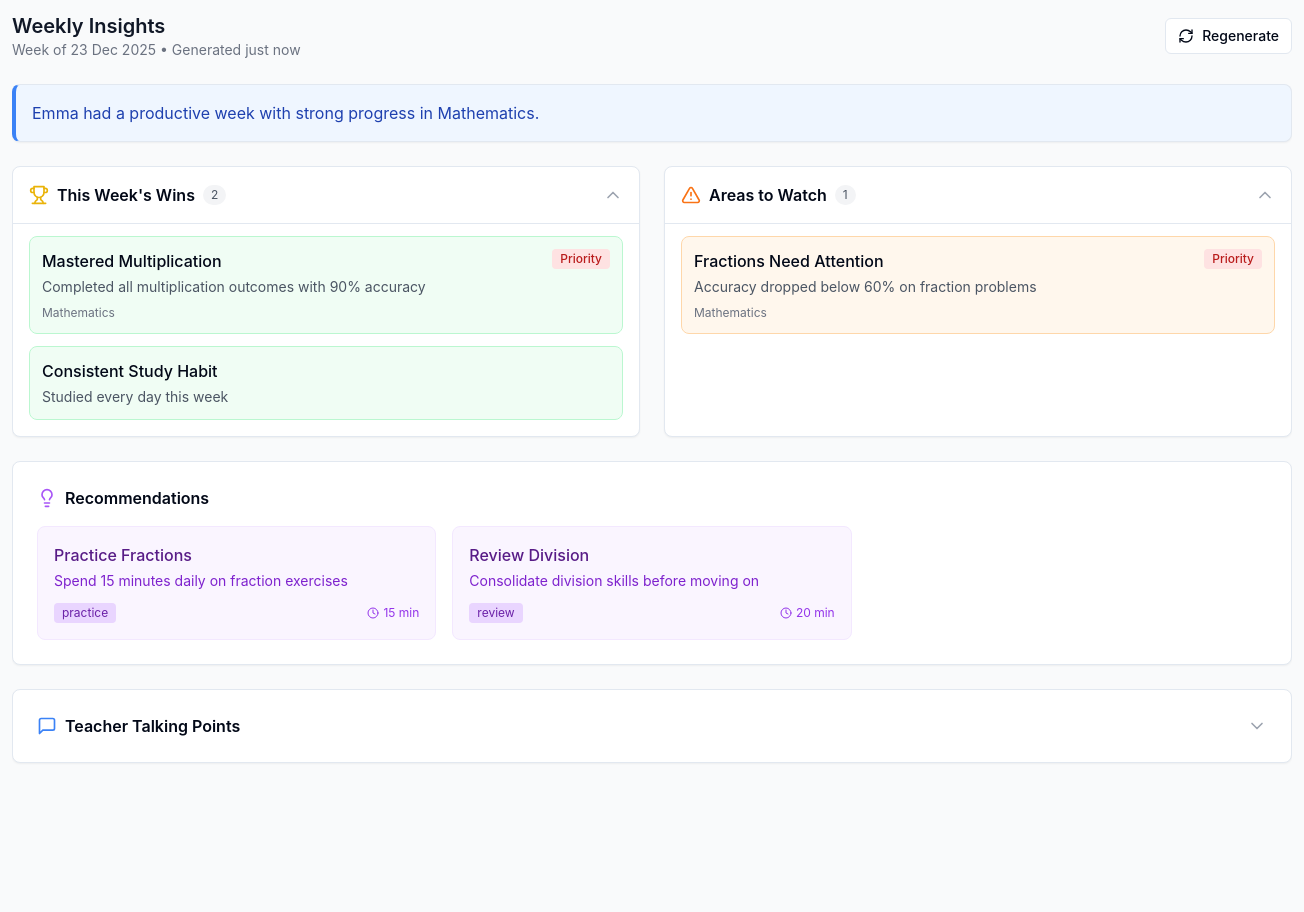
Test: InsightsTab › wins section › toggles expansion when clicked
This screenshot has width=1304, height=912.
Click the button with aria-label "Collapse This Week's Wins" at (126, 195), box [13,167,639,223]
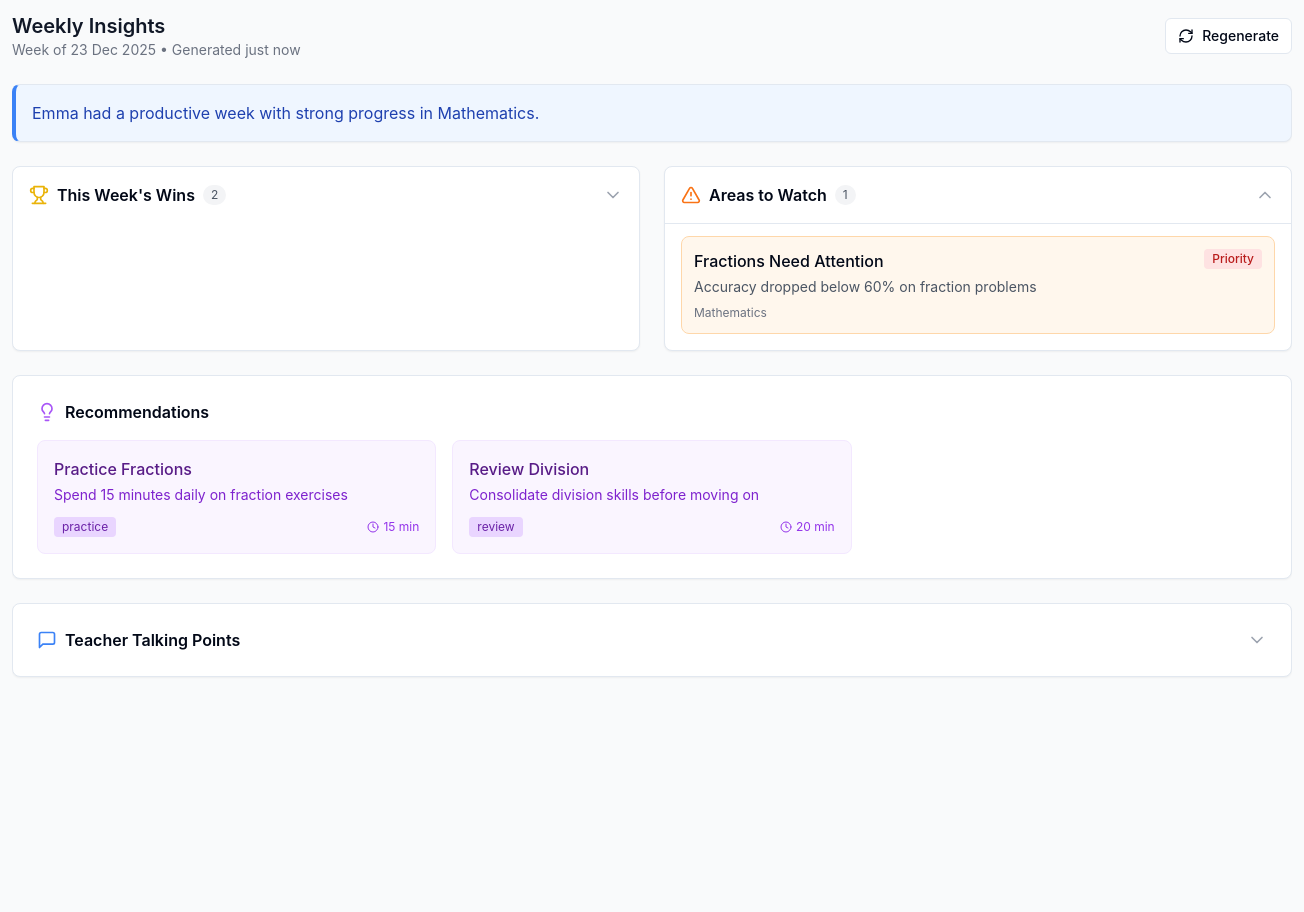
Expected: the button with aria-label "Expand This Week's Wins" is collapsed, [13,167,639,223]
